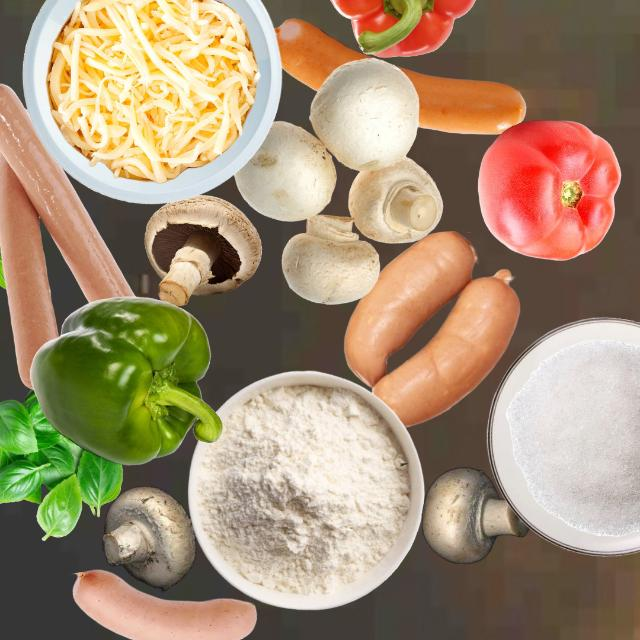Flour: (193, 382, 411, 596)
Sugar: (505, 338, 639, 537)
